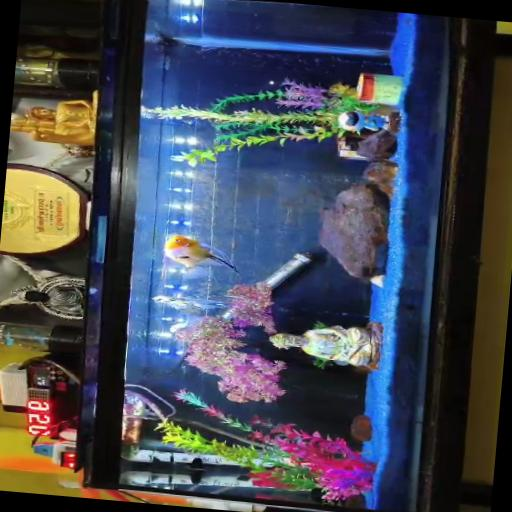Fish: (164, 235, 239, 278), (153, 296, 232, 310), (0, 392, 1, 401)
